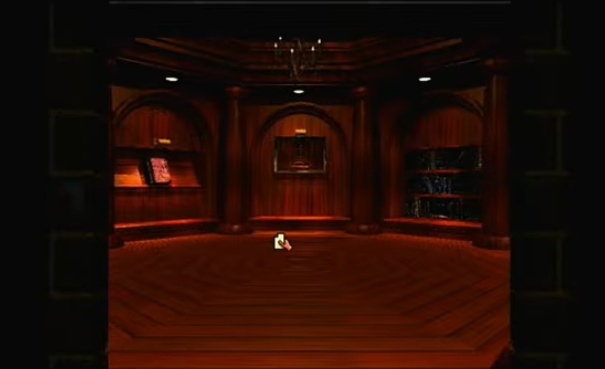Keep: (271, 228, 294, 253)
